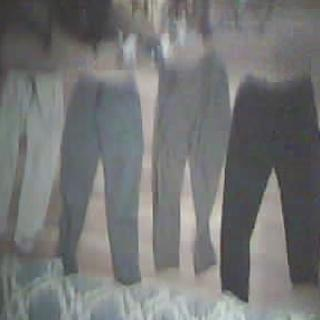Blue Sweatpants: (58, 74, 144, 283)
Gray Sweatpants: (148, 63, 228, 277)
Navy Sweatpants: (220, 67, 320, 300)
White Sweatpants: (0, 67, 63, 253)
